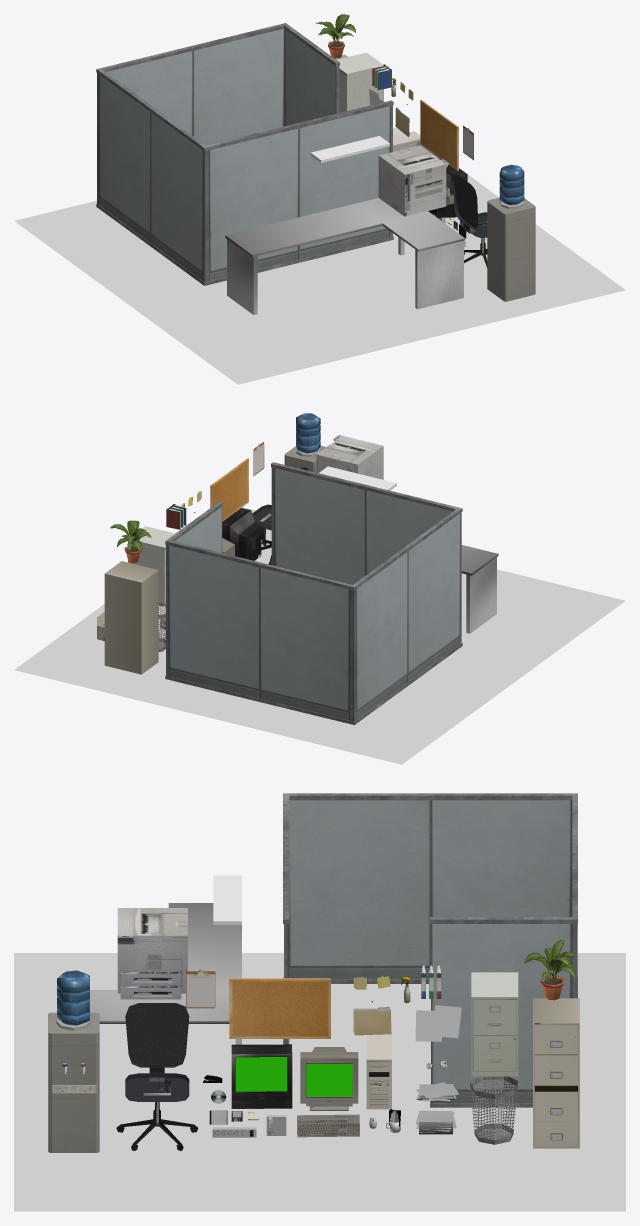
The model's file is Office stuff.fbx.
The picture shows the model from 3 angles, top to bottom: view 1: azimuth 30°, elevation 25°; view 2: azimuth 150°, elevation 25°; view 3: azimuth 270°, elevation 25°; orthographic projection. The views are drawn at different scales.
Visible parts, largest first — view 1: Cubicle, Carpetimg, Cubicle_Desk, Water_Cooler, Printer, _2_Drawer_Filing_Cabinet, Corkboard, Chair, Shelf, Water_Jug, Potted_Plant, Panasonic_VHS_TV; view 2: Cubicle, Carpetimg, _4_Drawer_Filing_Cabinet, Cubicle_Desk, Printer, Panasonic_VHS_TV, Corkboard, _2_Drawer_Filing_Cabinet, Water_Jug, Potted_Plant, Shelf, Water_Cooler (+1 smaller); view 3: Carpetimg, Cubicle, Water_Cooler, Chair, Corkboard, Cubicle_Desk, _4_Drawer_Filing_Cabinet, _2_Drawer_Filing_Cabinet, Printer, Panasonic_VHS_TV, Computer_Monitor, Trash_Cam (+13 smaller).
Part boxes in pixels (x1=…): Cubicle: x1=96, y1=23, x2=393, y2=285; Carpetimg: x1=14, y1=127, x2=625, y2=384; Cubicle_Desk: x1=225, y1=198, x2=464, y2=314; Water_Cooler: x1=487, y1=197, x2=535, y2=301; Printer: x1=378, y1=145, x2=448, y2=216; _2_Drawer_Filing_Cabinet: x1=337, y1=52, x2=383, y2=112; Corkboard: x1=420, y1=99, x2=458, y2=170; Chair: x1=450, y1=174, x2=487, y2=267; Shelf: x1=310, y1=136, x2=389, y2=162; Water_Jug: x1=499, y1=164, x2=524, y2=204; Potted_Plant: x1=316, y1=14, x2=355, y2=58; Panasonic_VHS_TV: x1=428, y1=159, x2=467, y2=218; Cubicle: x1=165, y1=462, x2=462, y2=724; Carpetimg: x1=14, y1=507, x2=625, y2=764; _4_Drawer_Filing_Cabinet: x1=104, y1=561, x2=158, y2=674; Cubicle_Desk: x1=461, y1=545, x2=498, y2=633; Printer: x1=316, y1=435, x2=383, y2=479; Panasonic_VHS_TV: x1=222, y1=508, x2=265, y2=560; Corkboard: x1=210, y1=458, x2=248, y2=521; _2_Drawer_Filing_Cabinet: x1=128, y1=526, x2=175, y2=605; Water_Jug: x1=296, y1=413, x2=320, y2=453; Potted_Plant: x1=110, y1=520, x2=151, y2=563; Shelf: x1=319, y1=466, x2=396, y2=490; Water_Cooler: x1=284, y1=446, x2=325, y2=472; Carpetimg: x1=14, y1=953, x2=625, y2=1211; Cubicle: x1=283, y1=793, x2=577, y2=1107; Water_Cooler: x1=48, y1=1012, x2=99, y2=1152; Chair: x1=116, y1=1003, x2=197, y2=1150; Corkboard: x1=229, y1=978, x2=330, y2=1038; Cubicle_Desk: x1=90, y1=903, x2=241, y2=1044; _4_Drawer_Filing_Cabinet: x1=533, y1=998, x2=579, y2=1148; _2_Drawer_Filing_Cabinet: x1=471, y1=972, x2=518, y2=1076; Printer: x1=117, y1=908, x2=187, y2=993; Panasonic_VHS_TV: x1=231, y1=1044, x2=292, y2=1108; Computer_Monitor: x1=300, y1=1047, x2=358, y2=1110; Trash_Cam: x1=470, y1=1076, x2=518, y2=1144.
Size of the model in its own units: 500 by 183 by 500.
